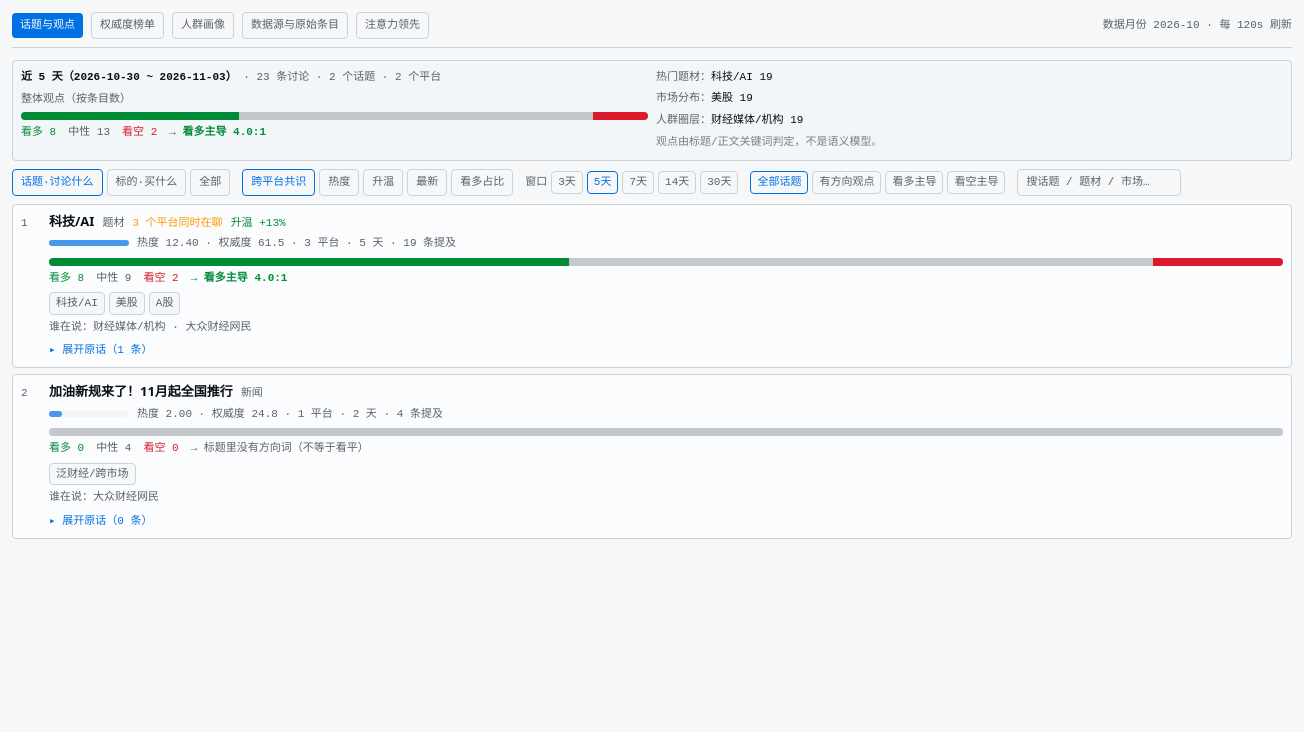
CrowdPulsePanel · v317 注意力领先视图 › renders explicit verdict plus surface/reverse/clean numbers on attention tab
The width and height of the screenshot is (1304, 732).
Click the button "注意力领先" at (392, 25), box [356,12,429,38]
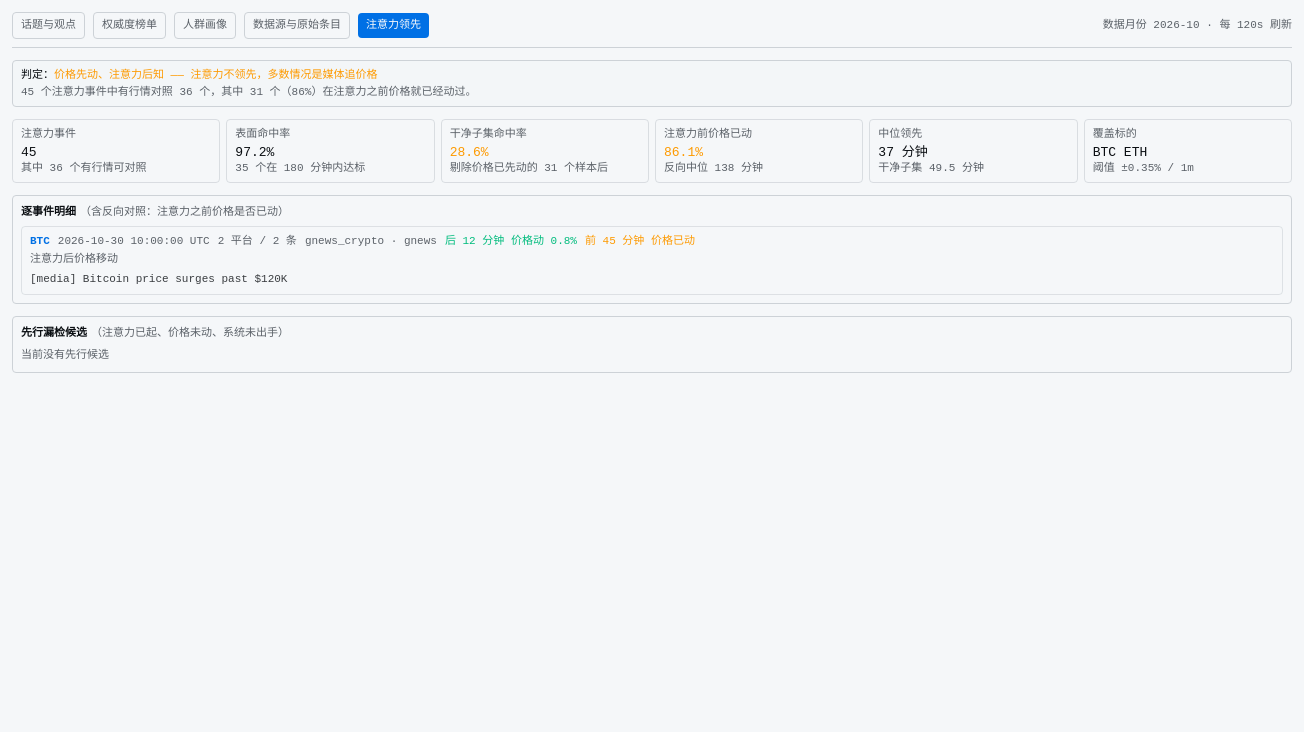
Expected: the text "价格先动、注意力后知 —— 注意力不领先，多数情况是媒体追价格" is shown, [54,68,377,80]
Expected: the text "表面命中率" is shown, [235,128,290,140]
Expected: the text "97.2%" is shown, [235,145,274,160]
